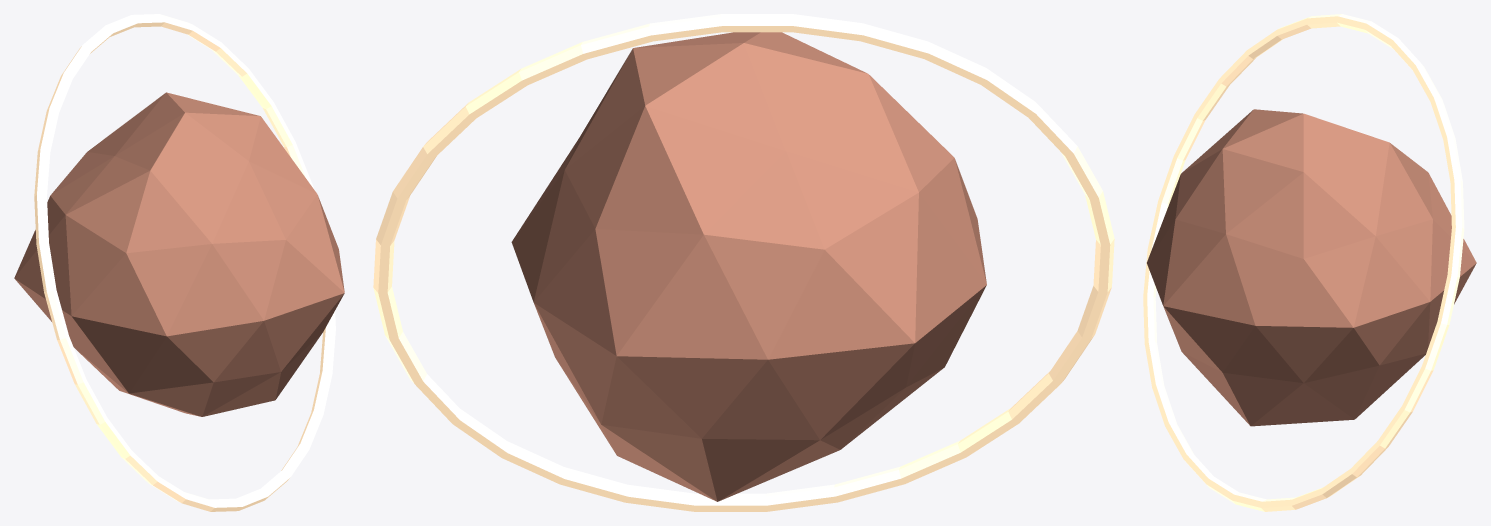
The model's file is planet.glb.
The picture shows the model from 3 angles, left to right: view 1: azimuth 30°, elevation 25°; view 2: azimuth 150°, elevation 25°; view 3: azimuth 270°, elevation 25°; orthographic projection. The views are drawn at different scales.
Parts seen in each view (by area): view 1: body, ring; view 2: body, ring; view 3: body, ring.
Boxes of the visible parts, x1=… form: body: x1=14, y1=92, x2=344, y2=416; ring: x1=34, y1=14, x2=335, y2=511; body: x1=511, y1=32, x2=986, y2=501; ring: x1=373, y1=14, x2=1114, y2=511; body: x1=1147, y1=109, x2=1476, y2=426; ring: x1=1143, y1=14, x2=1464, y2=511.
Size of the model in its own units: 2.77 by 2.91 by 2.1.
